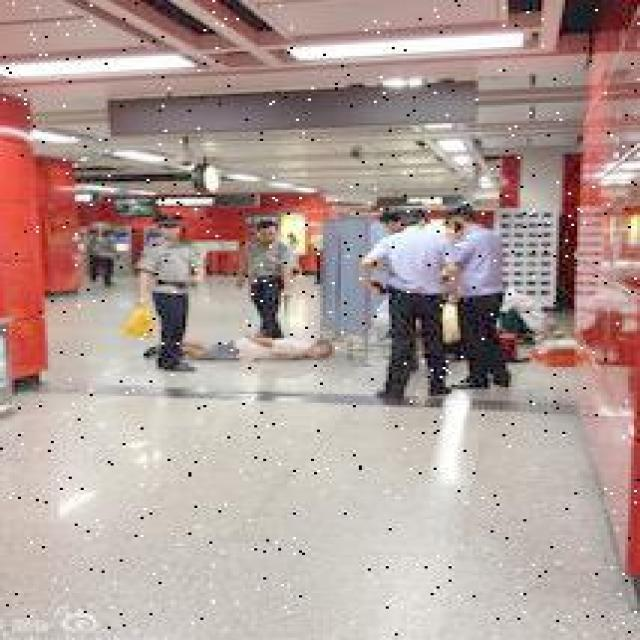fall: (135, 329, 332, 358)
